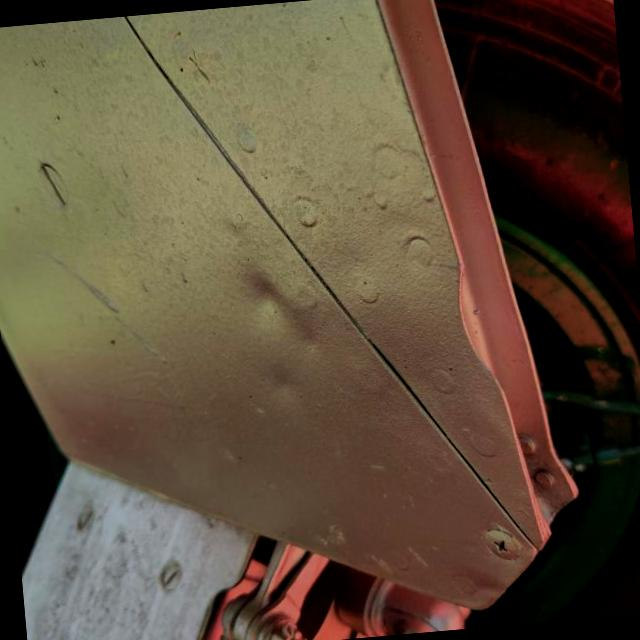dent: (220, 243, 330, 362)
